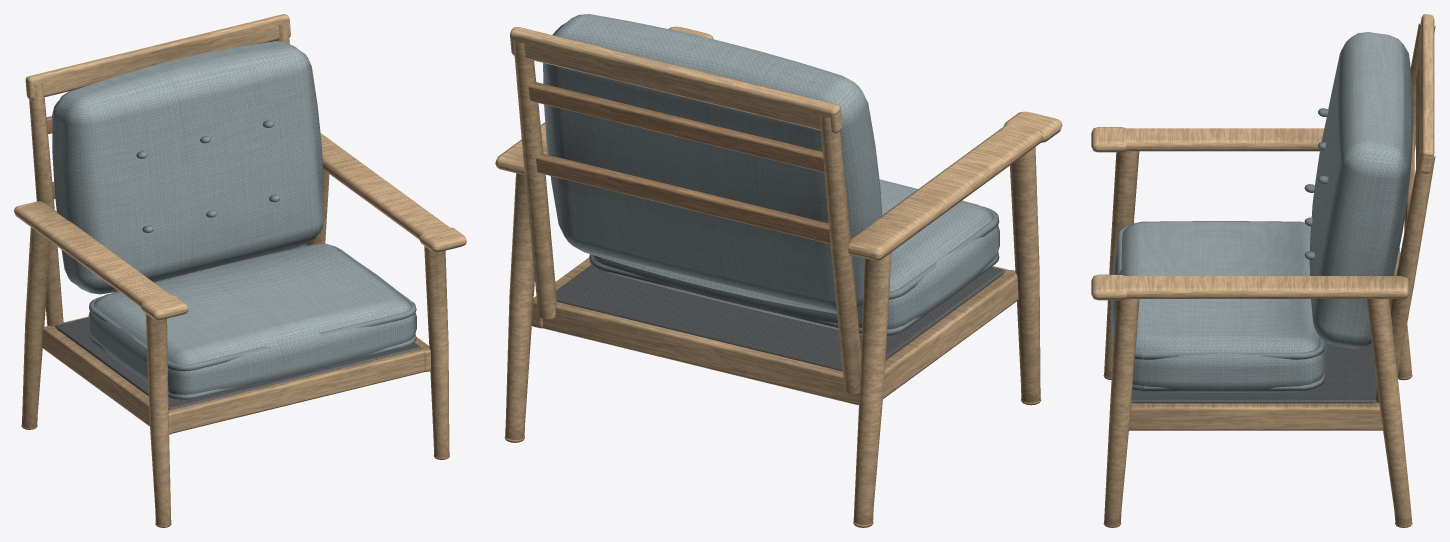
The model's file is int_poltrona.glb.
3 views of the same model, side by side, from view 1: azimuth 30°, elevation 25°; view 2: azimuth 150°, elevation 25°; view 3: azimuth 270°, elevation 25° (orthographic). The views are drawn at different scales.
Visible parts, largest first — view 1: almofada_encosto, estrutura, almofada_assento; view 2: estrutura, almofada_encosto, almofada_assento; view 3: estrutura, almofada_assento, almofada_encosto.
Boxes of the visible parts, bbox=[...] form: almofada_encosto: bbox=[52, 41, 324, 294]; estrutura: bbox=[14, 14, 466, 527]; almofada_assento: bbox=[88, 243, 416, 400]; estrutura: bbox=[495, 26, 1062, 527]; almofada_encosto: bbox=[543, 14, 882, 313]; almofada_assento: bbox=[589, 179, 999, 336]; estrutura: bbox=[1091, 14, 1435, 527]; almofada_assento: bbox=[1111, 221, 1328, 392]; almofada_encosto: bbox=[1304, 32, 1412, 348].
Bounding box in the file's own units: 0.744 × 0.7707 × 0.6503.
Materials: 2 (2 with a texture image).
